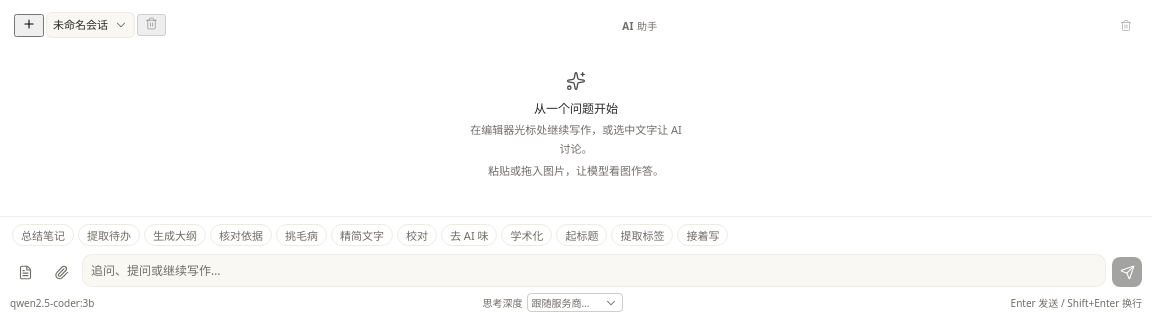
Test: the token count on an answer › shows the total the provider reported
Type "hello" into the text box with class "chat-textarea". click: (594, 271)
box: [82,254,1106,287]
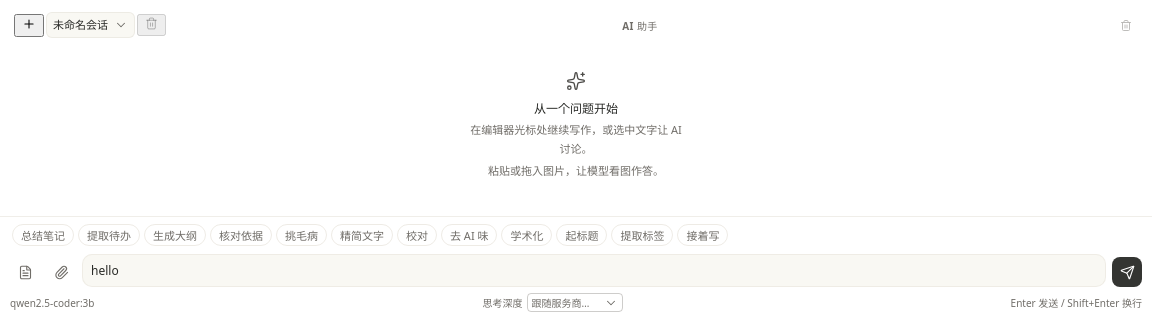
Click the button with class "chat-send". click: (1127, 272)
box: [1112,257,1142,287]
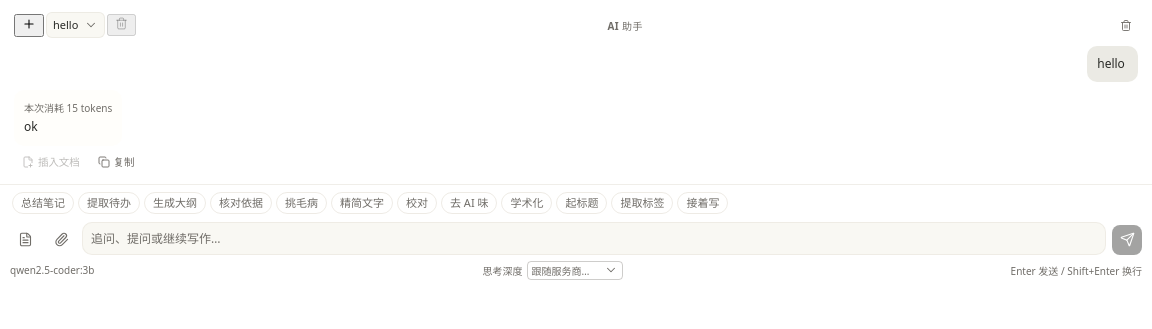
Now the text with class "chat-usage" shows "15", box [24,101,112,115]
